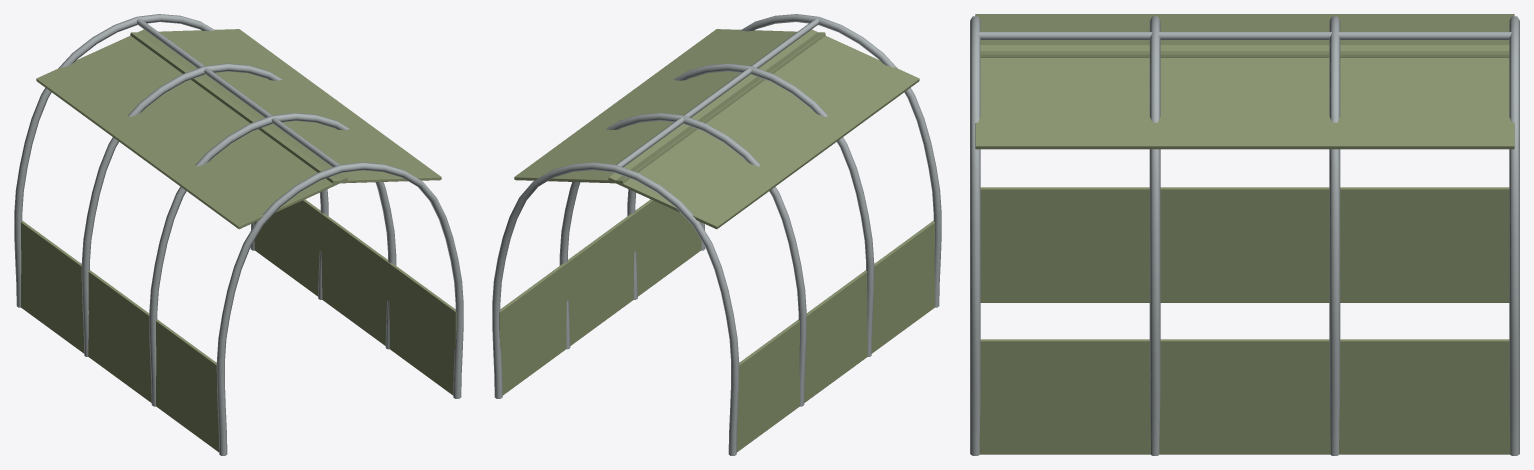
The model's file is survival-greenhouse-and-irrigation-hoop-growing-tunnel-bec4b7f4__21306.glb.
3 views of the same model, side by side, from view 1: azimuth 30°, elevation 25°; view 2: azimuth 150°, elevation 25°; view 3: azimuth 270°, elevation 25° (orthographic). The views are drawn at different scales.
Visible parts, largest first — view 1: hoop-growing-tunnel; view 2: hoop-growing-tunnel; view 3: hoop-growing-tunnel.
Part boxes in pixels (box(x1,y1,x2,y2)): hoop-growing-tunnel: box(14, 14, 463, 455); hoop-growing-tunnel: box(492, 14, 941, 455); hoop-growing-tunnel: box(970, 14, 1519, 455).
Bounding box in the file's own units: 2.09 × 2.13 × 3.06.
